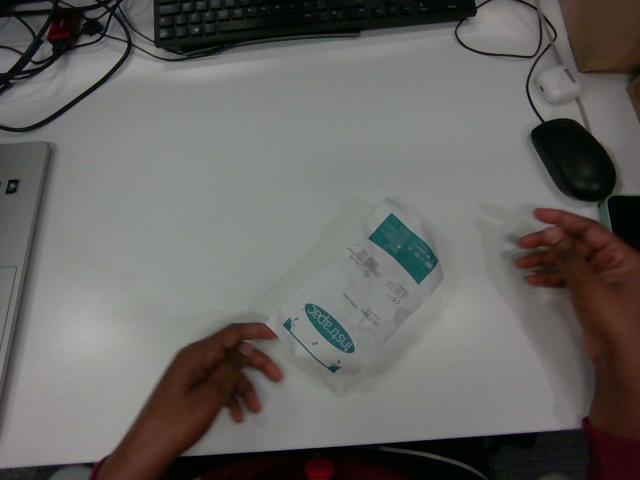gallipot: (267, 200, 442, 390)
